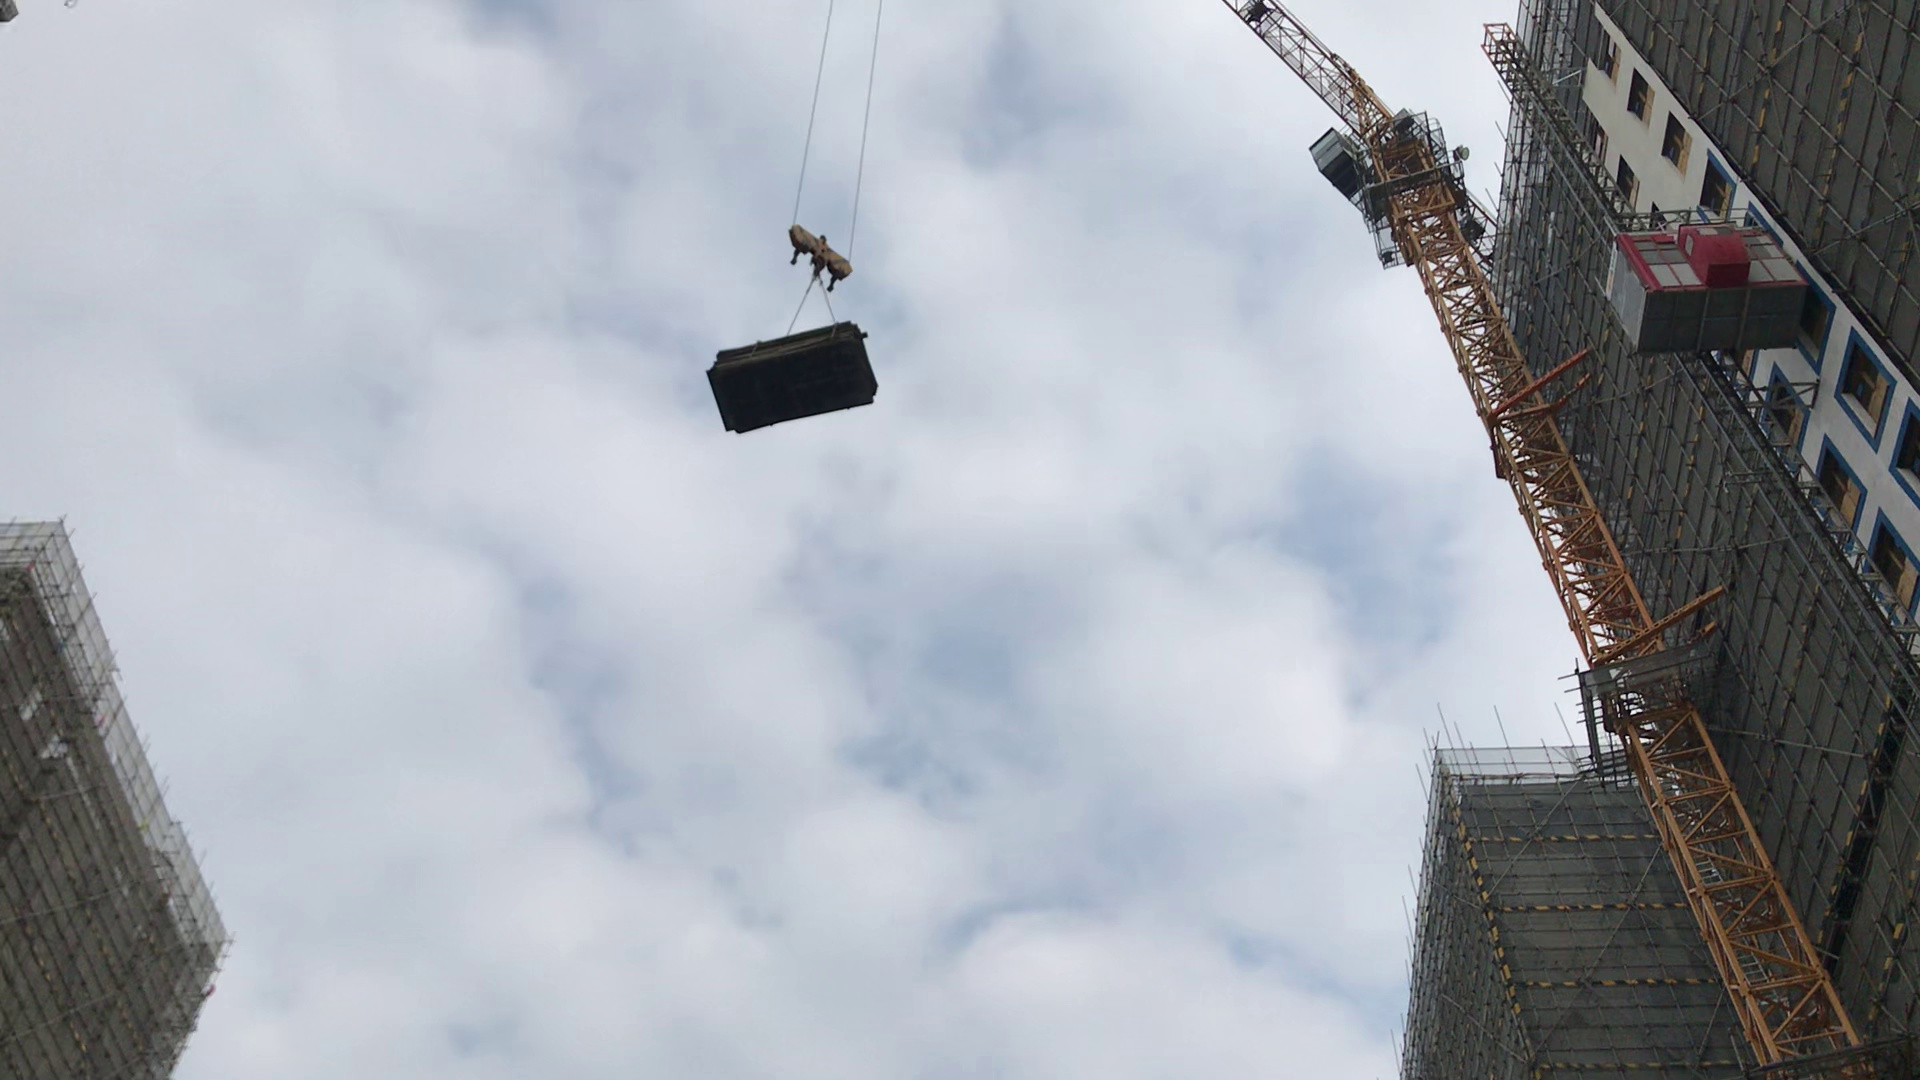board: (699, 319, 887, 440)
hook: (765, 204, 865, 297)
